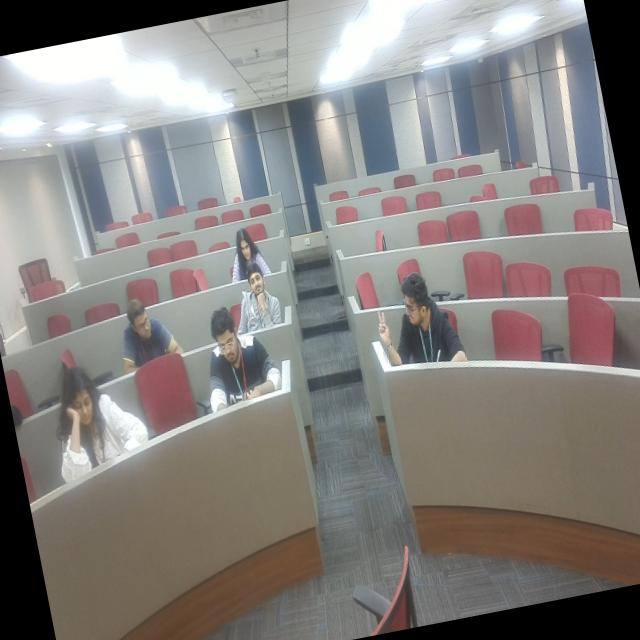cheating: (359, 268, 473, 396), (99, 278, 183, 370)
non-cheating: (38, 344, 146, 486), (193, 304, 291, 441), (229, 262, 290, 324), (225, 213, 262, 266)
